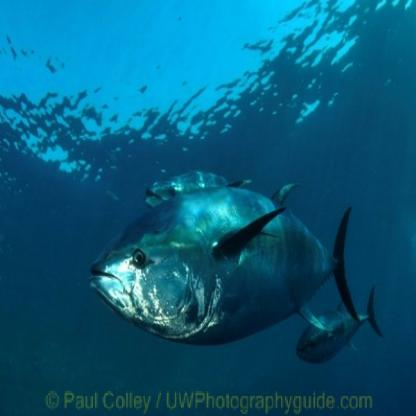Scombridae -Tunas-: (85, 182, 366, 350)
